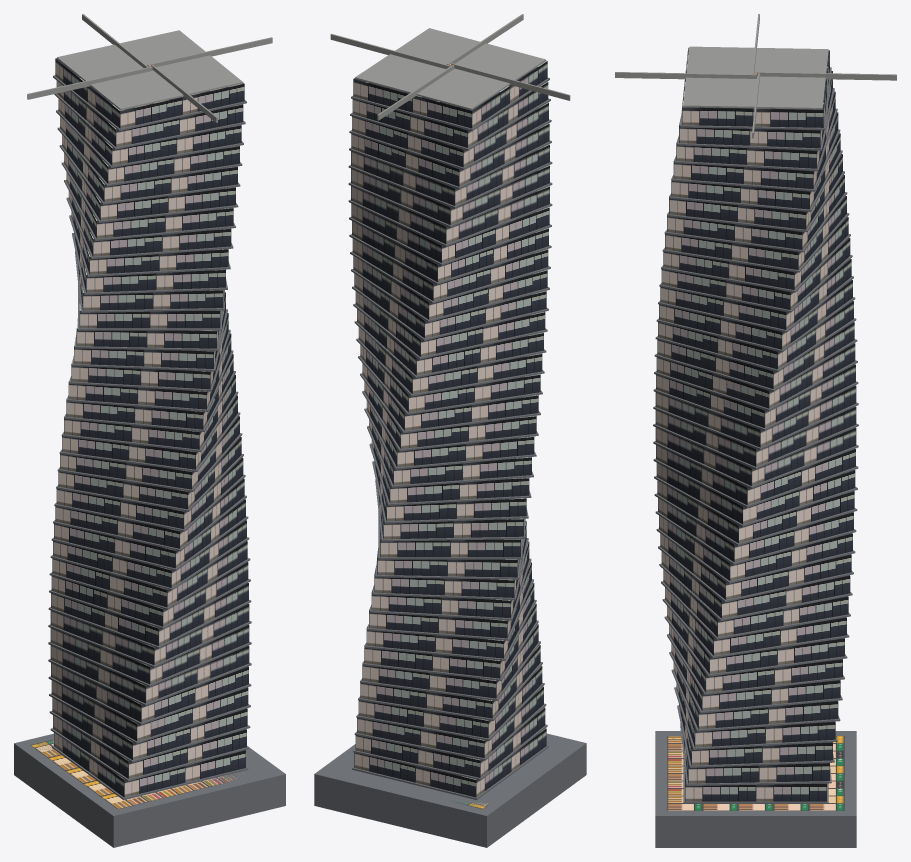
File: tower_twist.glb
3 renders of one model, left to right at view 1: azimuth 30°, elevation 25°; view 2: azimuth 150°, elevation 25°; view 3: azimuth 270°, elevation 25°, orthographic.
Visible parts, largest first — view 1: tower_twist; view 2: tower_twist; view 3: tower_twist.
Part boxes in pixels (<box>): tower_twist: <box>14,14,285,847</box>; tower_twist: <box>314,14,586,847</box>; tower_twist: <box>615,14,896,847</box>.
Bounding box in the file's own units: 47.69 × 137 × 47.69.
Materials: 5 (2 with a texture image).
